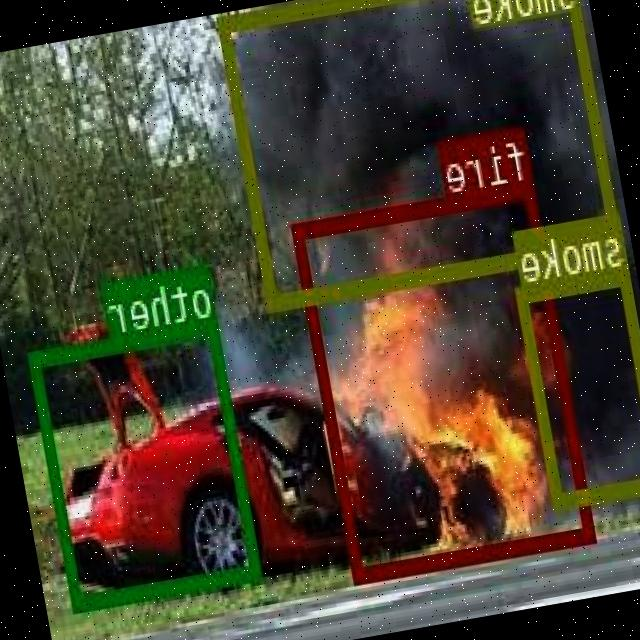fire: (294, 179, 597, 582)
smoke: (218, 0, 624, 308), (517, 266, 640, 507)
